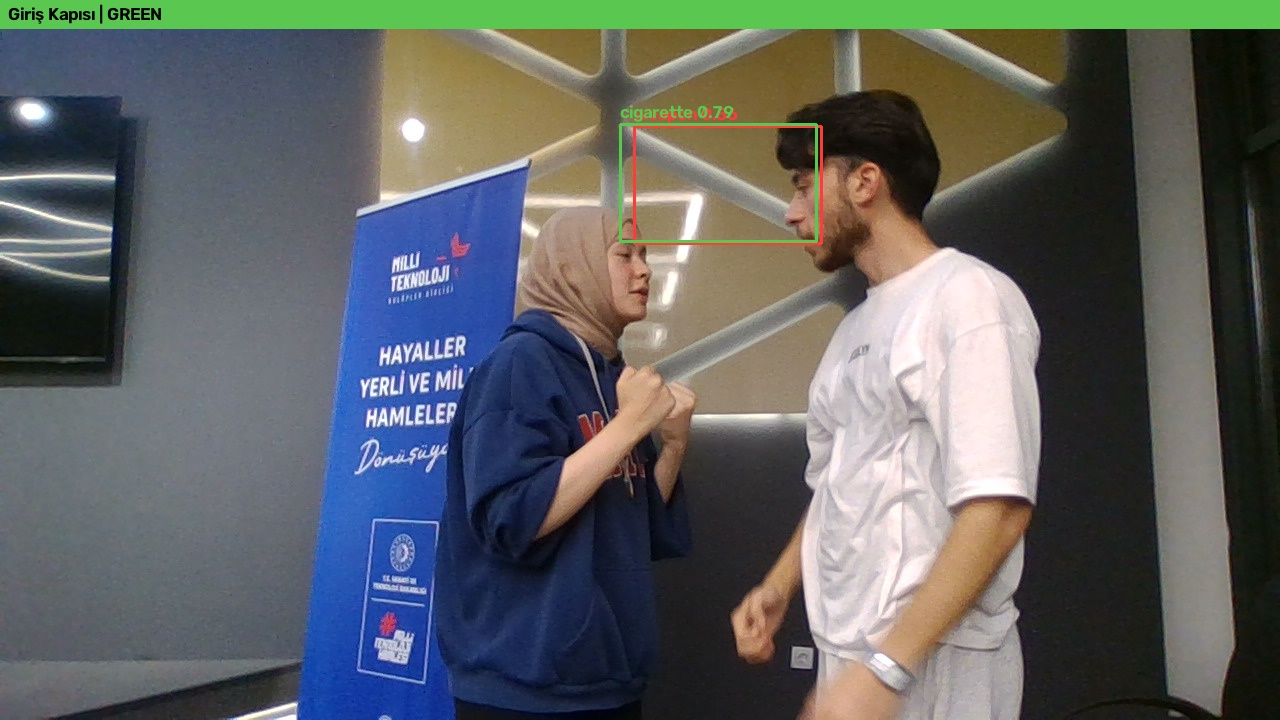weapon: (552, 326, 627, 463)
